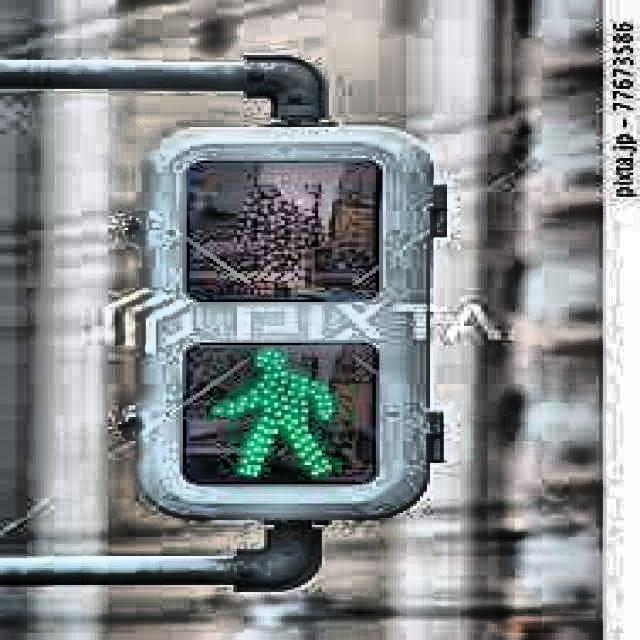semaforo pedestre: (81, 55, 498, 585)
